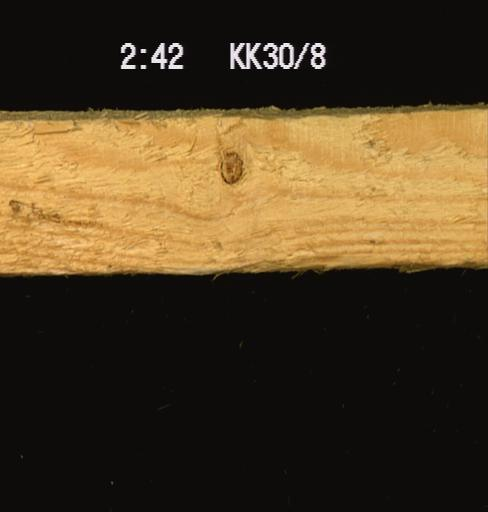dry_knot: (217, 147, 244, 187)
split: (20, 115, 87, 146)
